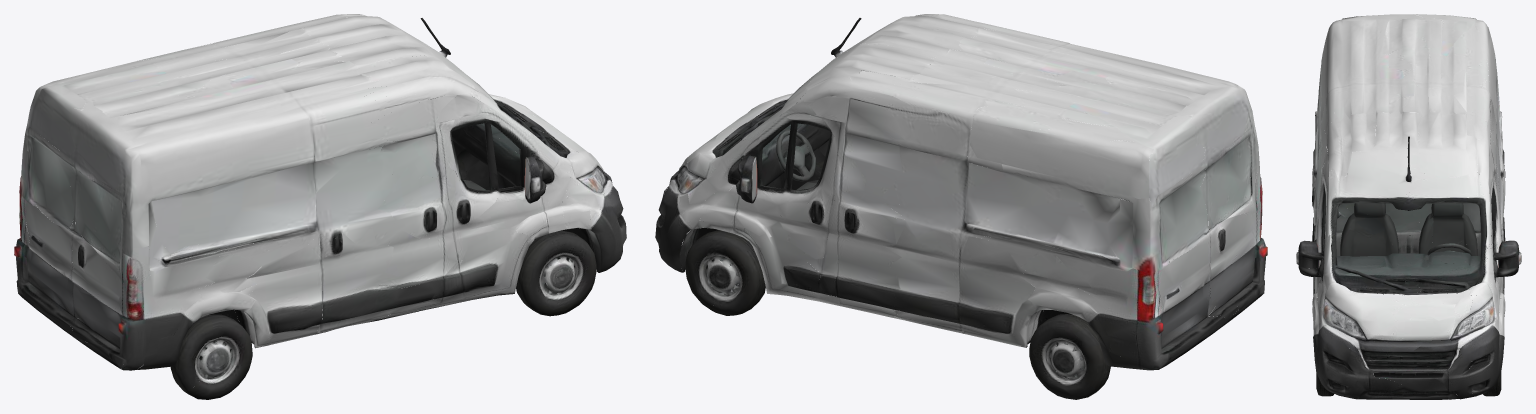
The model's file is van.glb.
3 renders of one model, left to right at view 1: azimuth 30°, elevation 25°; view 2: azimuth 150°, elevation 25°; view 3: azimuth 270°, elevation 25°, orthographic. The views are drawn at different scales.
Parts seen in each view (by area): view 1: tripo_node_b3d7cbfa-77f9-40e8-824e-5484c7c3bdaa; view 2: tripo_node_b3d7cbfa-77f9-40e8-824e-5484c7c3bdaa; view 3: tripo_node_b3d7cbfa-77f9-40e8-824e-5484c7c3bdaa.
Part boxes in pixels (box(x1,y1,x2,y2)): tripo_node_b3d7cbfa-77f9-40e8-824e-5484c7c3bdaa: box(14, 14, 626, 399); tripo_node_b3d7cbfa-77f9-40e8-824e-5484c7c3bdaa: box(655, 14, 1267, 399); tripo_node_b3d7cbfa-77f9-40e8-824e-5484c7c3bdaa: box(1296, 14, 1521, 399).
Size of the model in its own units: 5.95 by 2.99 by 2.72.
1 material, 1 textured.
